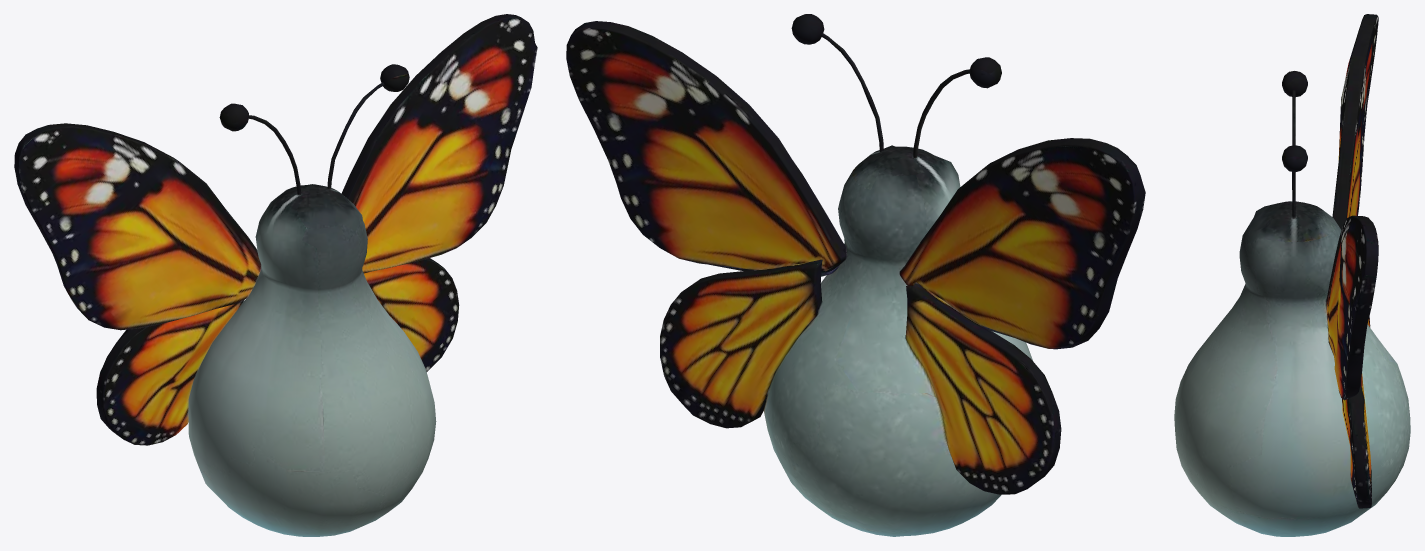
Rendered from pokedex_insect.glb.
3 renders of one model, left to right at view 1: azimuth 30°, elevation 25°; view 2: azimuth 150°, elevation 25°; view 3: azimuth 270°, elevation 25°, orthographic. The views are drawn at different scales.
Bounding box in the file's own units: 0.957 × 0.7734 × 0.3965.
Materials: 1 (1 with a texture image).
